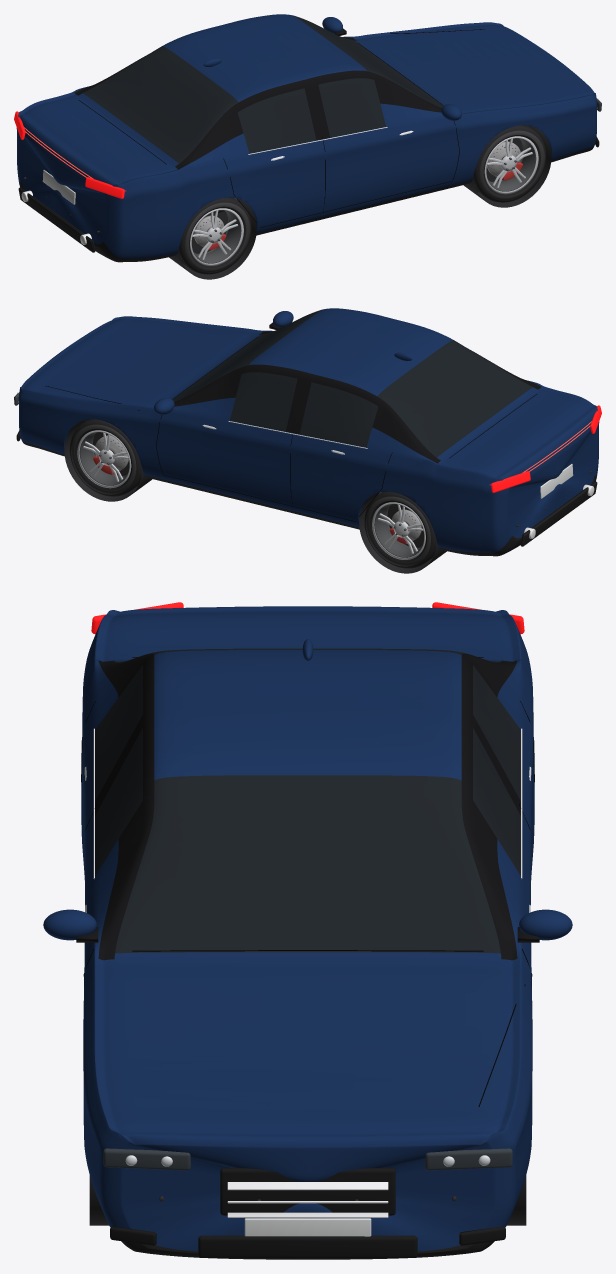
File: limousine.glb
The picture shows the model from 3 angles, top to bottom: view 1: azimuth 30°, elevation 25°; view 2: azimuth 150°, elevation 25°; view 3: azimuth 270°, elevation 25°; orthographic projection. The views are drawn at different scales.
Visible parts, largest first — view 1: karosserie, bt:rad_hr, bt:rad_vr, diffusor, radhausschale.001, radhausschale.003, bt:bremse_vr, bt:bremse_hr, rueckleuchte_-1, kennzeichen_hinten; view 2: karosserie, bt:rad_hl, bt:rad_vl, diffusor, radhausschale, radhausschale.002, bt:bremse_vl, bt:bremse_hl, rueckleuchte_1, kennzeichen_hinten; view 3: karosserie, grill, lufteinlass, kennzeichen_vorn, scheinwerfer_1, scheinwerfer_-1, grill_lamelle_3, spiegel_1, spiegel_-1, grill_lamelle_0.
Part boxes in pixels (x1=…): karosserie: x1=16, y1=14, x2=597, y2=262; bt:rad_hr: x1=179, y1=197, x2=251, y2=274; bt:rad_vr: x1=474, y1=125, x2=546, y2=202; diffusor: x1=18, y1=187, x2=95, y2=252; radhausschale.001: x1=463, y1=125, x2=551, y2=207; radhausschale.003: x1=169, y1=198, x2=256, y2=279; bt:bremse_vr: x1=487, y1=141, x2=522, y2=180; bt:bremse_hr: x1=194, y1=215, x2=226, y2=250; rueckleuchte_-1: x1=85, y1=177, x2=124, y2=198; kennzeichen_hinten: x1=42, y1=170, x2=75, y2=204; karosserie: x1=18, y1=308, x2=599, y2=556; bt:rad_hl: x1=364, y1=491, x2=436, y2=568; bt:rad_vl: x1=69, y1=419, x2=141, y2=496; diffusor: x1=520, y1=481, x2=597, y2=546; radhausschale: x1=64, y1=420, x2=152, y2=501; radhausschale.002: x1=359, y1=492, x2=446, y2=573; bt:bremse_vl: x1=93, y1=435, x2=128, y2=474; bt:bremse_hl: x1=389, y1=509, x2=421, y2=544; rueckleuchte_1: x1=491, y1=471, x2=530, y2=492; kennzeichen_hinten: x1=540, y1=464, x2=573, y2=498; karosserie: x1=81, y1=606, x2=534, y2=1259; grill: x1=220, y1=1168, x2=395, y2=1215; lufteinlass: x1=198, y1=1235, x2=417, y2=1257; kennzeichen_vorn: x1=244, y1=1218, x2=371, y2=1236; scheinwerfer_1: x1=425, y1=1148, x2=512, y2=1170; scheinwerfer_-1: x1=103, y1=1148, x2=190, y2=1170; grill_lamelle_3: x1=227, y1=1182, x2=388, y2=1190; spiegel_1: x1=519, y1=909, x2=572, y2=940; spiegel_-1: x1=43, y1=909, x2=96, y2=940; grill_lamelle_0: x1=227, y1=1212, x2=388, y2=1217.
Size of the model in its own units: 4.82 by 1.51 by 2.17.
